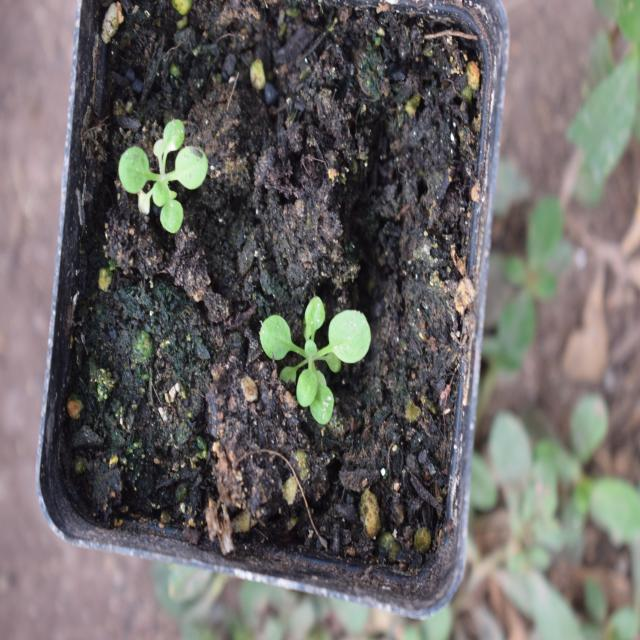Shepherd_Purse: (265, 285, 385, 432), (126, 120, 219, 244)
